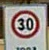limite 30: (9, 8, 40, 38)
